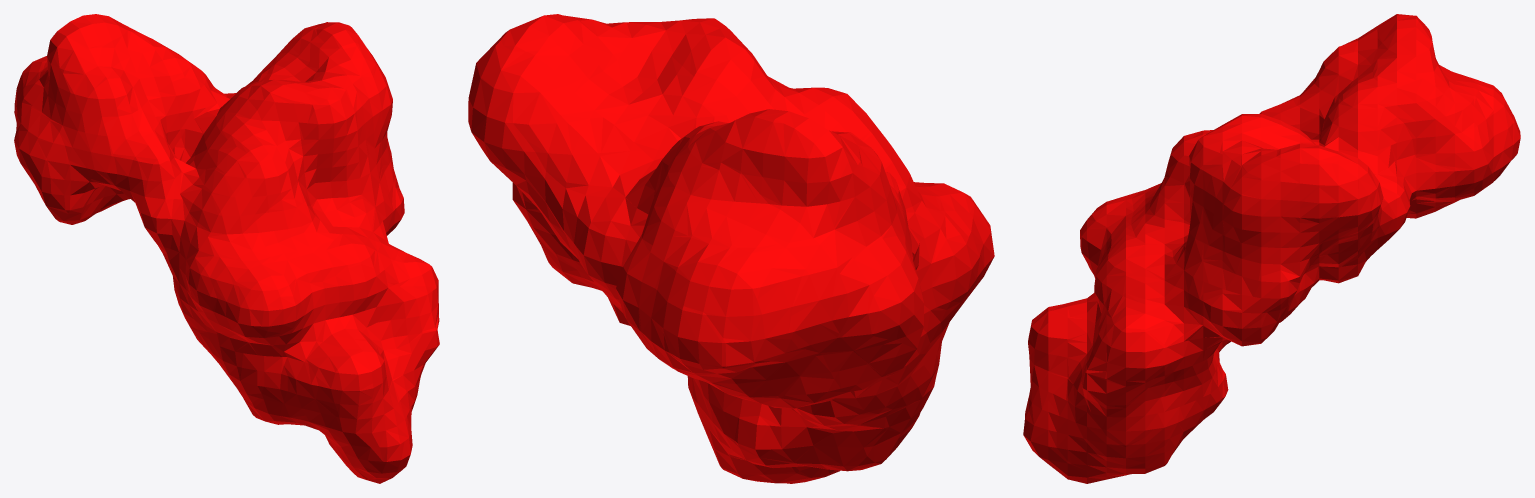
Rendered from lexA_coarse.dae.
The picture shows the model from 3 angles, left to right: view 1: azimuth 30°, elevation 25°; view 2: azimuth 150°, elevation 25°; view 3: azimuth 270°, elevation 25°; orthographic projection. The views are drawn at different scales.
Parts seen in each view (by area): view 1: lexA; view 2: lexA; view 3: lexA.
Part boxes in pixels (x1,y1,x2,y2): lexA: (14,14,439,483); lexA: (468,14,994,483); lexA: (1023,14,1520,483).
Bounding box in the file's own units: 57.72 × 67.88 × 77.45.
